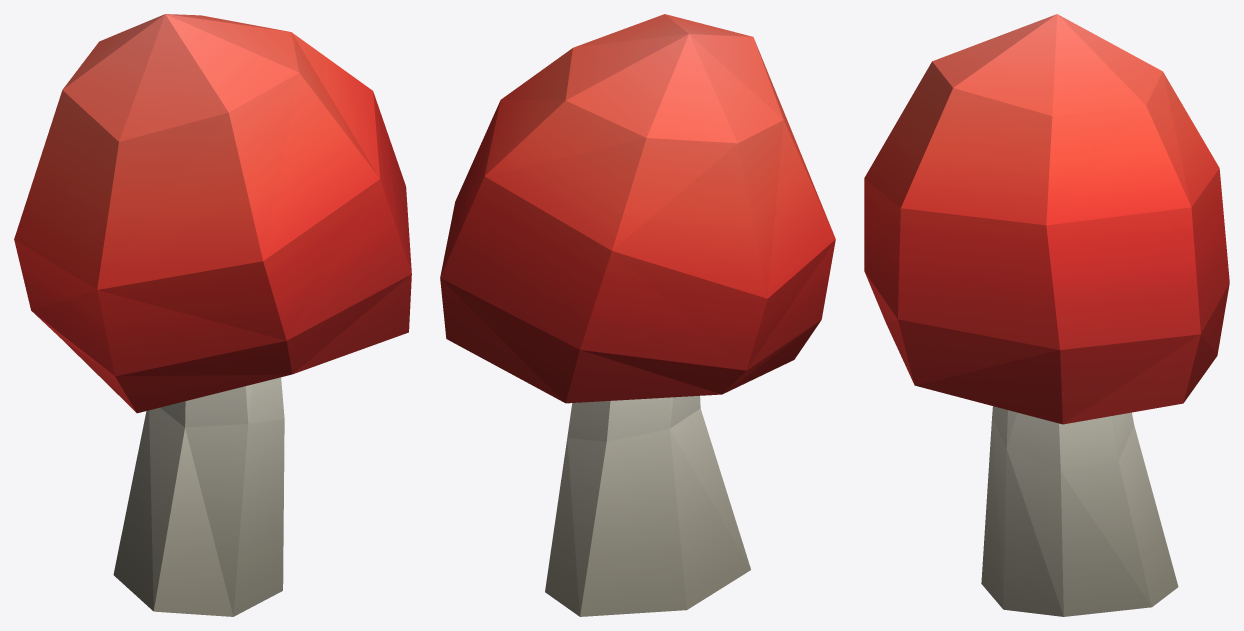
Rendered from MushroomRed-03.FBX.
The picture shows the model from 3 angles, left to right: view 1: azimuth 30°, elevation 25°; view 2: azimuth 150°, elevation 25°; view 3: azimuth 270°, elevation 25°; orthographic projection. The views are drawn at different scales.
Visible parts, largest first — view 1: MushroomRed-03; view 2: MushroomRed-03; view 3: MushroomRed-03.
Part boxes in pixels (x1,y1,x2,y2): MushroomRed-03: (14, 14, 411, 616); MushroomRed-03: (440, 14, 835, 616); MushroomRed-03: (864, 14, 1229, 616).
Size of the model in its own units: 22.82 by 35.3 by 21.02.
1 material, 1 textured.
